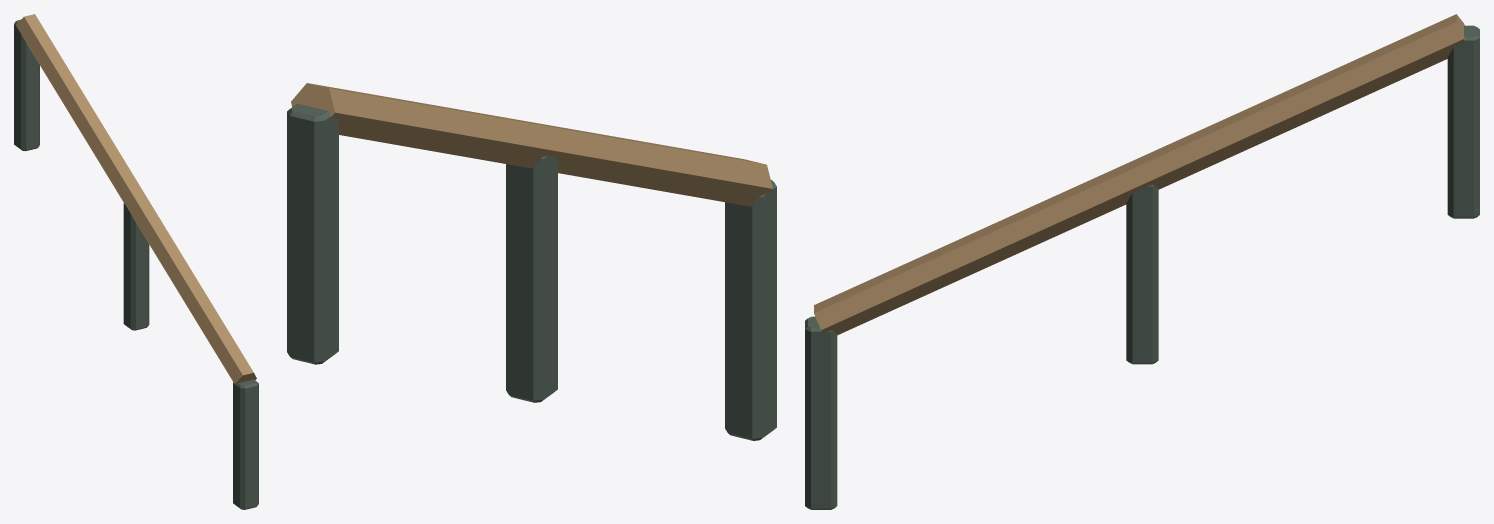
The model's file is stair-rail.glb.
3 views of the same model, side by side, from view 1: azimuth 30°, elevation 25°; view 2: azimuth 150°, elevation 25°; view 3: azimuth 270°, elevation 25° (orthographic). The views are drawn at different scales.
Visible parts, largest first — view 1: stair-rail__body; view 2: stair-rail__body; view 3: stair-rail__body.
Part boxes in pixels (bbox=[...]): stair-rail__body: bbox=[14, 14, 258, 509]; stair-rail__body: bbox=[287, 83, 776, 440]; stair-rail__body: bbox=[805, 14, 1479, 509].
Size of the model in its own units: 0.14 by 2 by 2.52.
